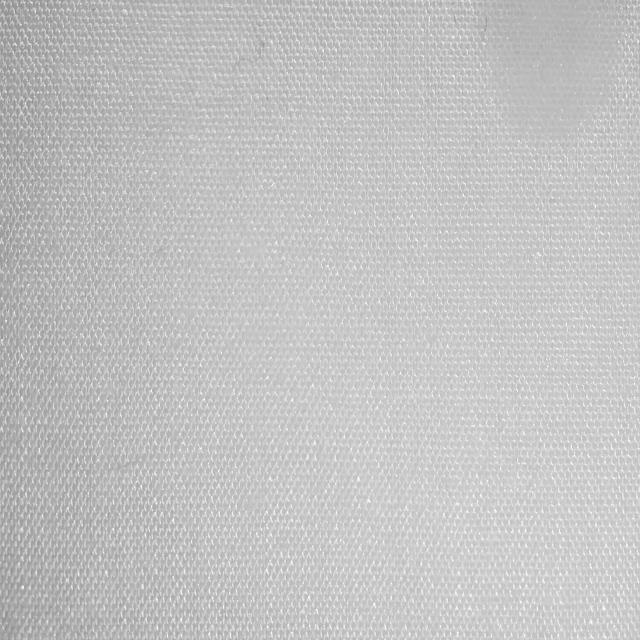Stain: (479, 0, 621, 138)
